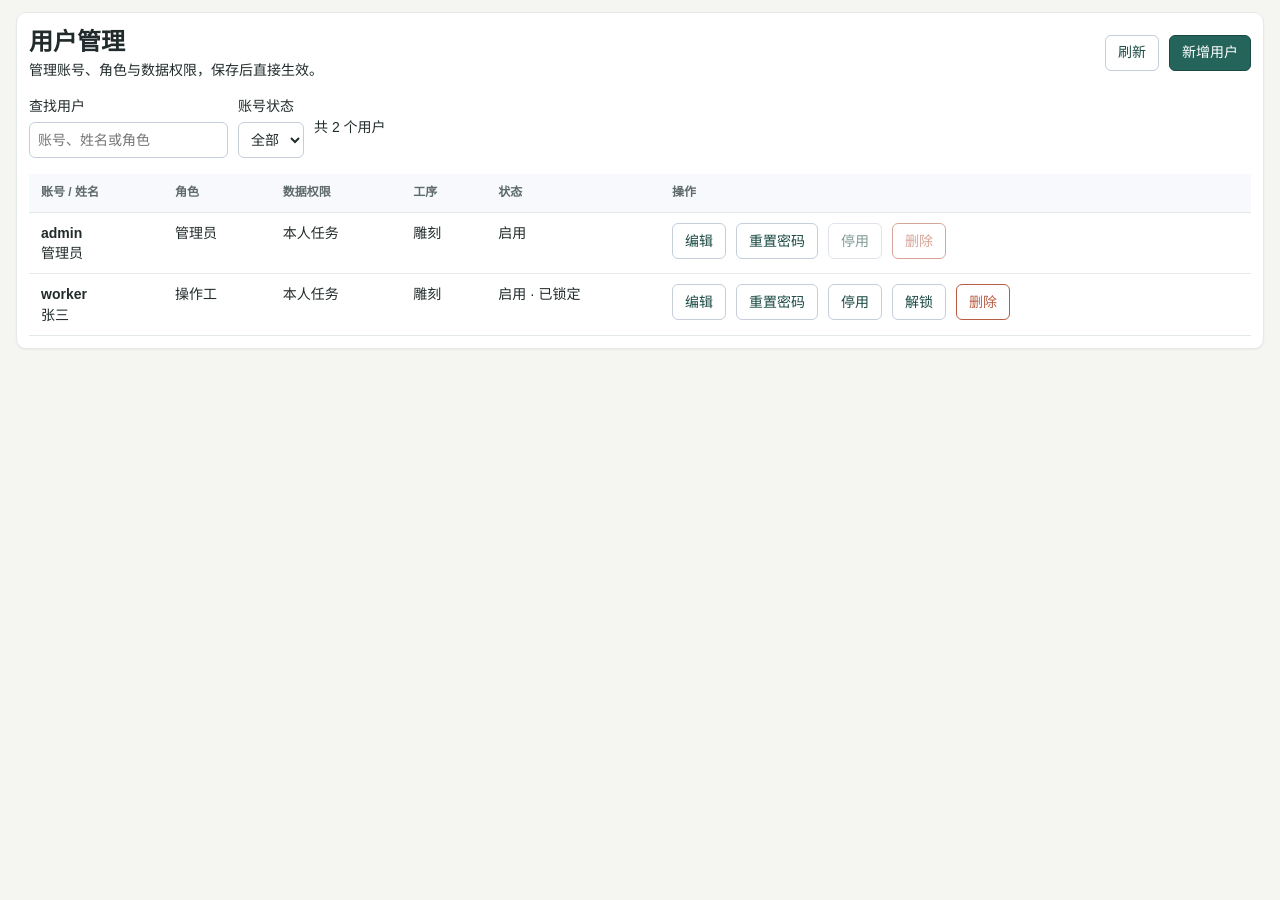
用户管理 › 重置密码校验确认值，成功后清除输入并直接生效
This screenshot has width=1280, height=900.
Click the button "重置密码" in the row of "worker": (777, 302) left=736, top=284, right=818, bottom=320
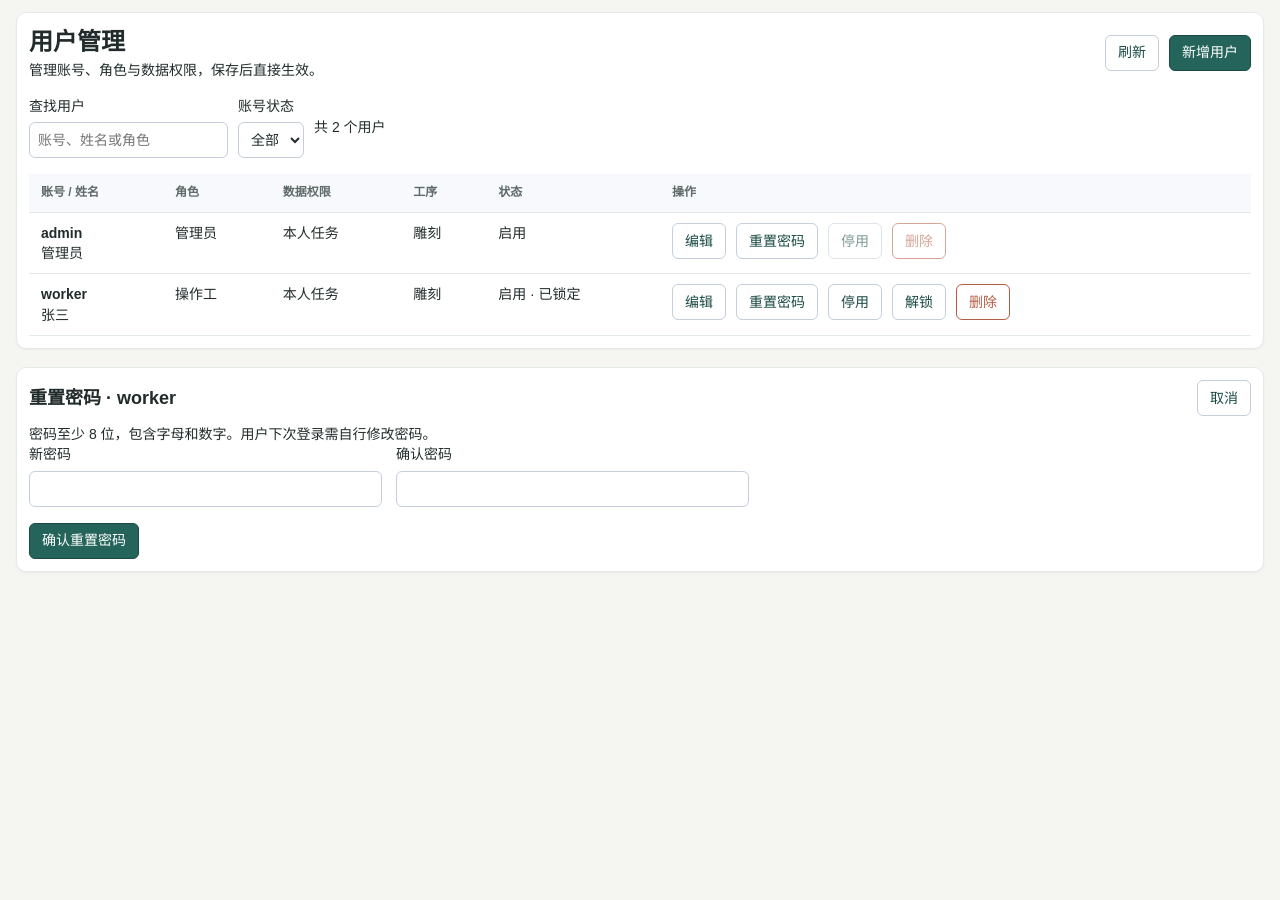
In the password field named "用户密码": (206, 489) left=29, top=471, right=382, bottom=507, type "TemporaryPass2026"
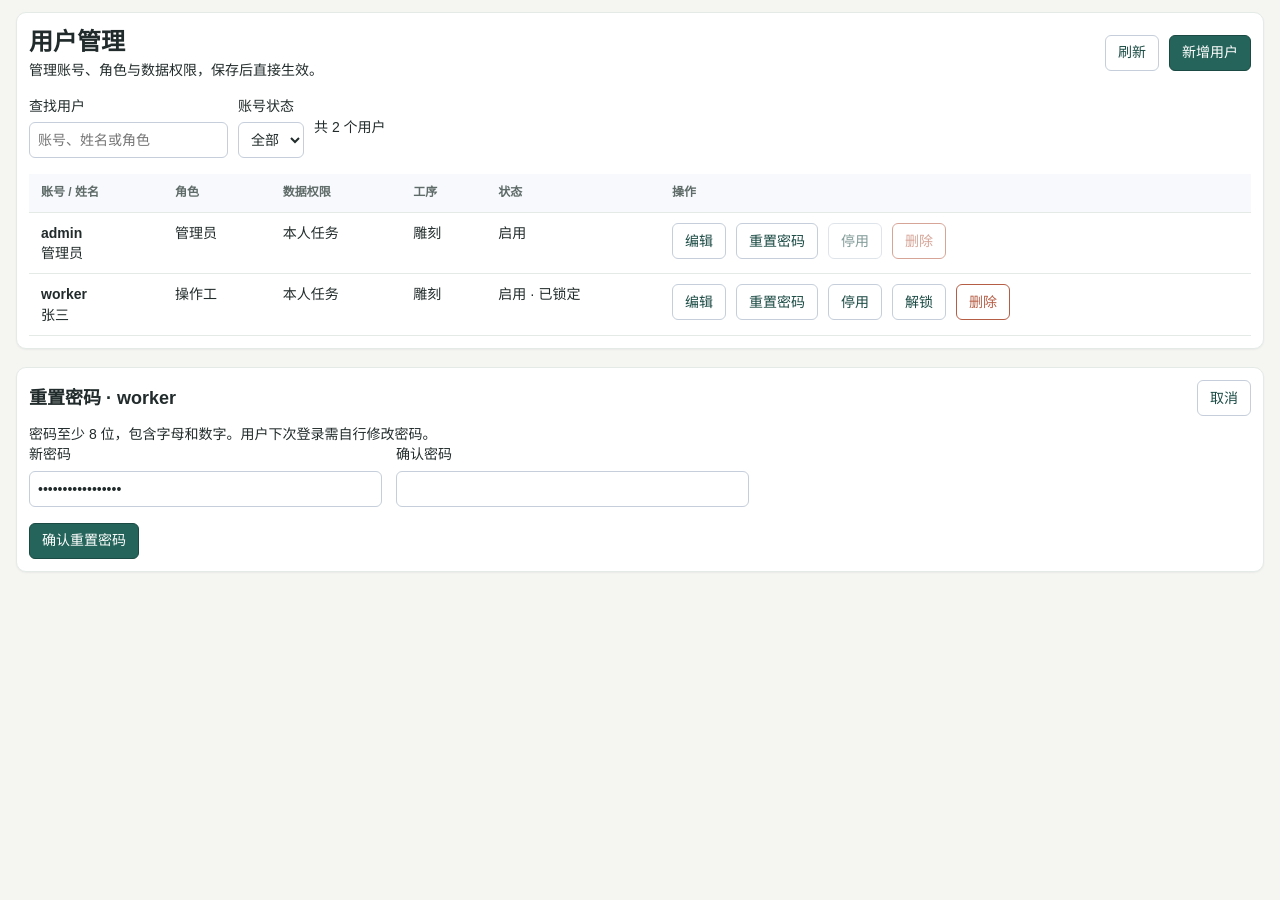
Submit the form, box left=29, top=426, right=749, bottom=559
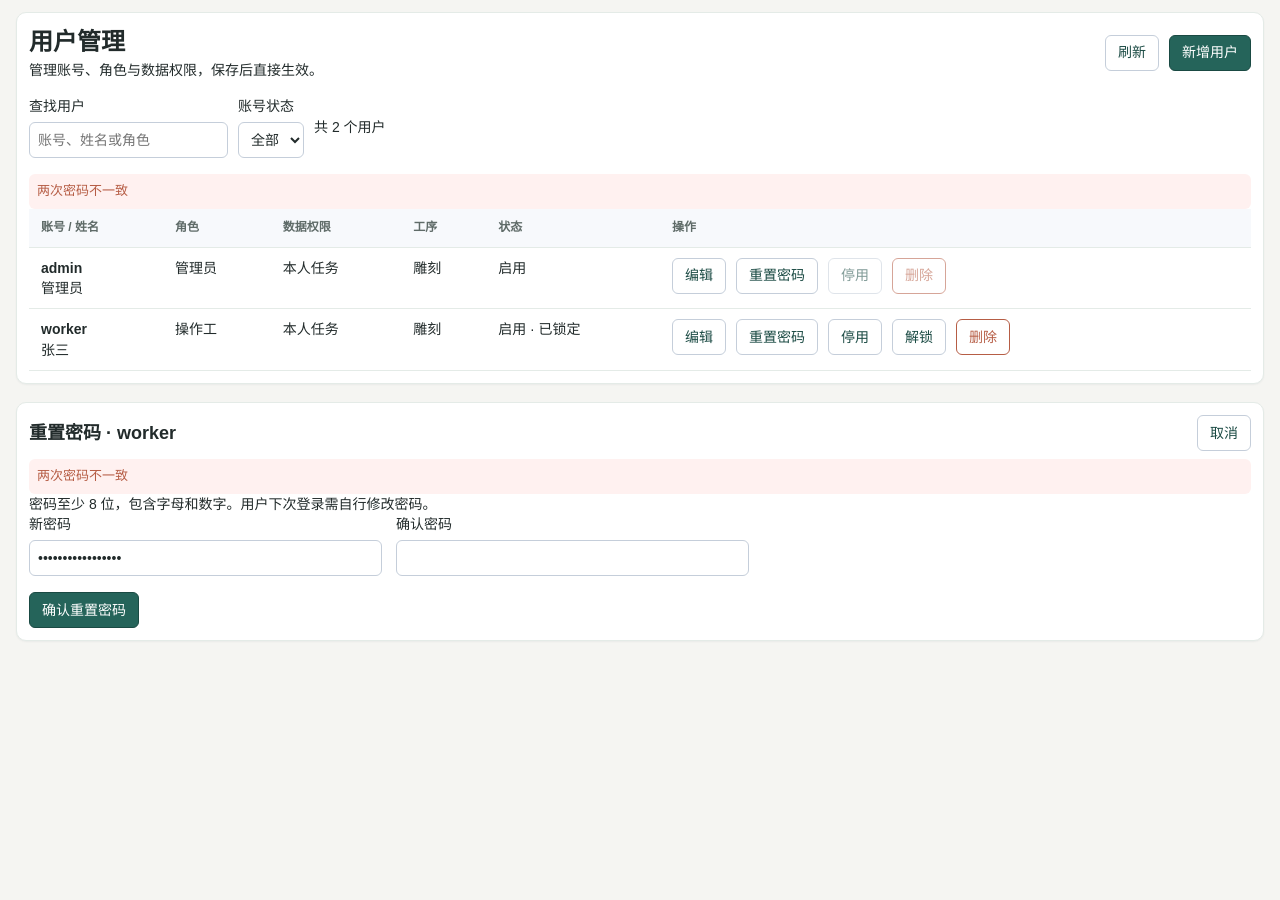
Result: the text "两次密码不一致" is shown at left=29, top=174, right=1251, bottom=209
In the password field named "确认用户密码": (572, 558) left=396, top=540, right=749, bottom=576, type "TemporaryPass2026"
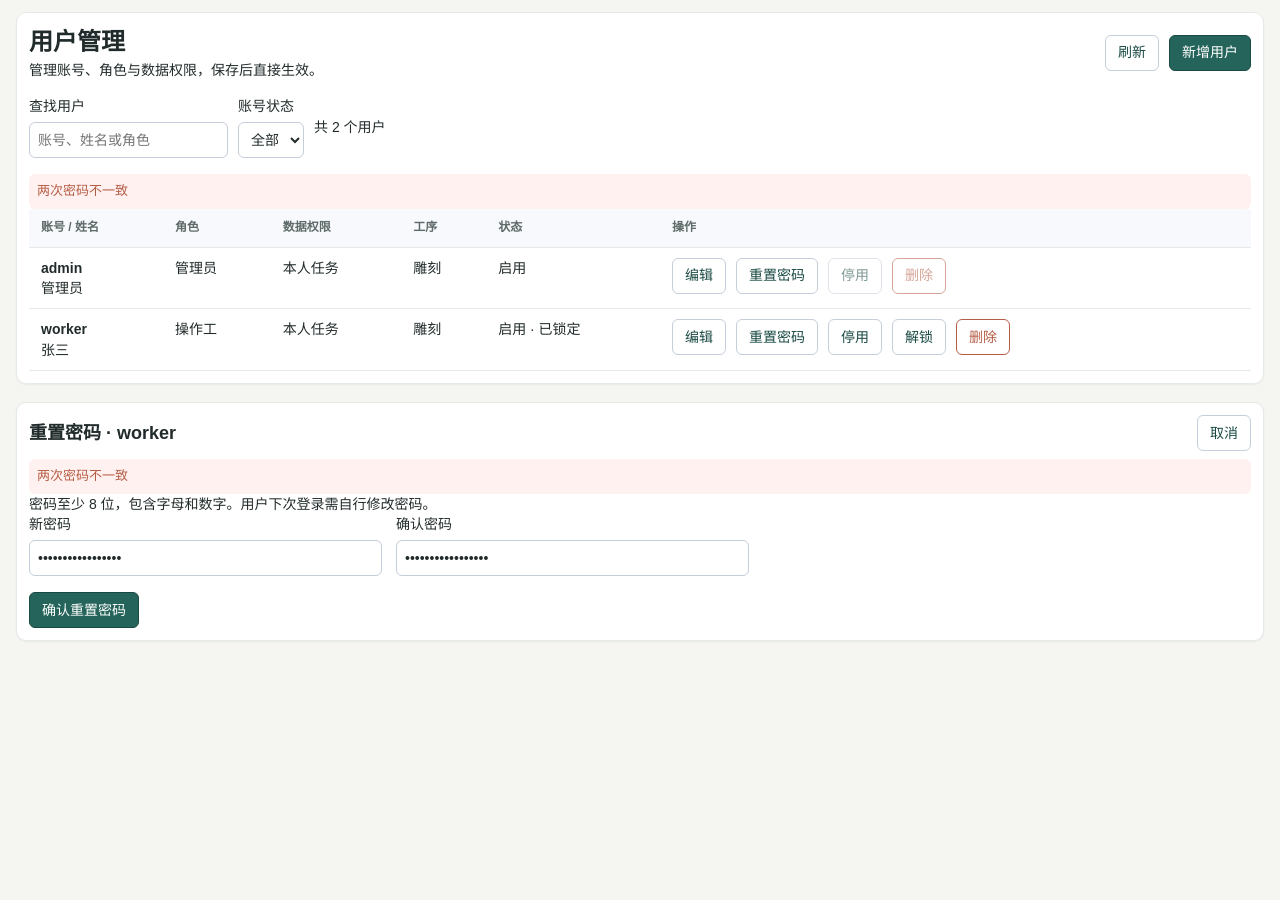
Submit the form, box left=29, top=459, right=1251, bottom=628
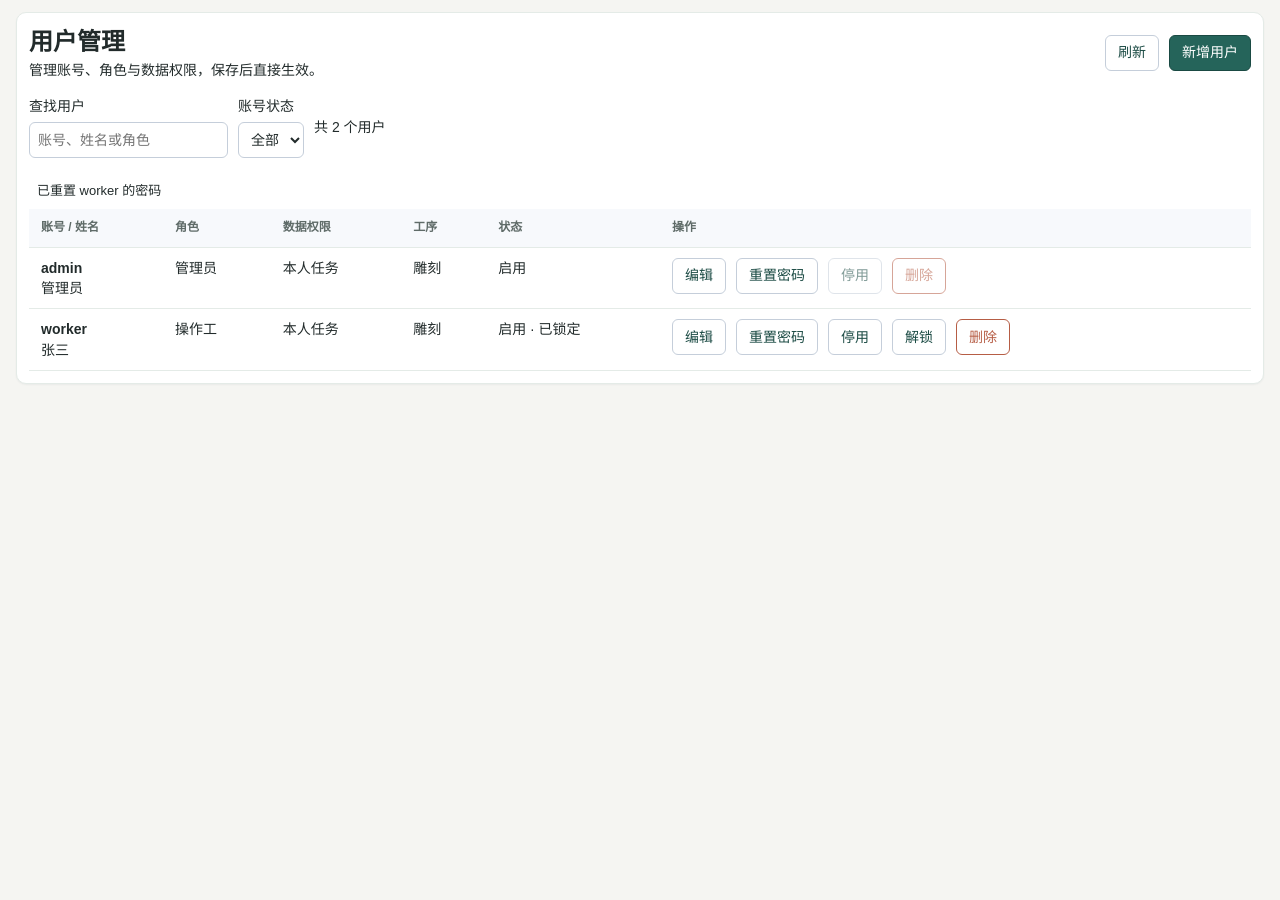
Result: the text "已重置 worker 的密码" is shown at left=37, top=183, right=161, bottom=198
